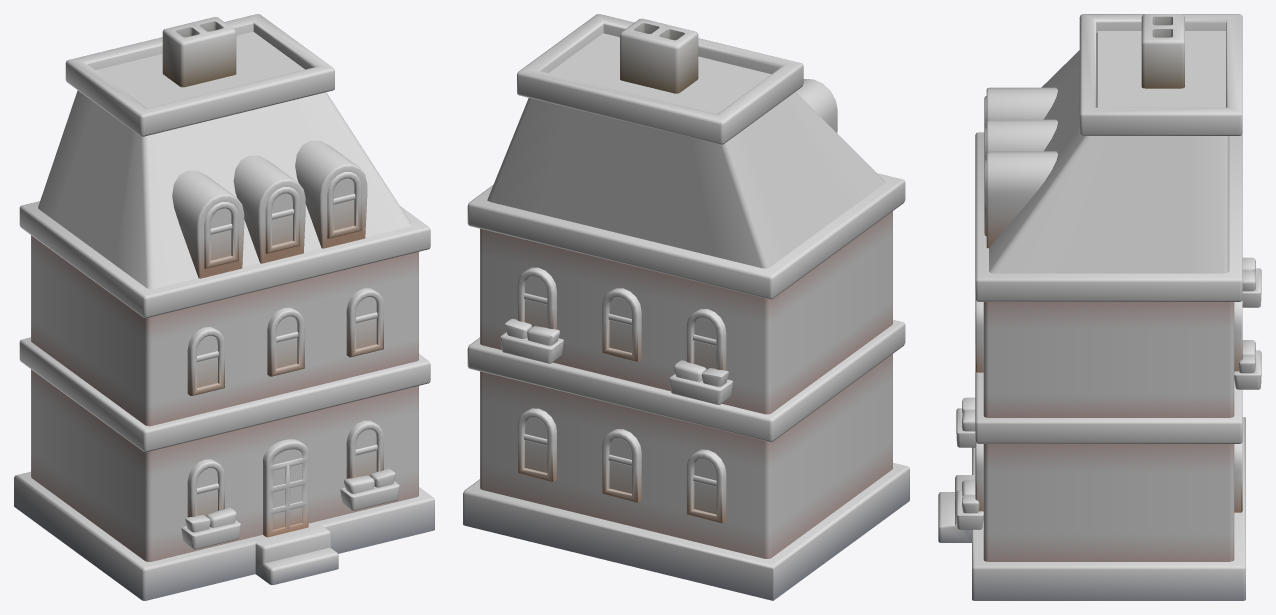
Rendered from NF_Bld_Apartment 03.fbx.
The picture shows the model from 3 angles, left to right: view 1: azimuth 30°, elevation 25°; view 2: azimuth 150°, elevation 25°; view 3: azimuth 270°, elevation 25°; orthographic projection. The views are drawn at different scales.
Parts seen in each view (by area): view 1: Apart_03; view 2: Apart_03; view 3: Apart_03.
Part boxes in pixels (x1,y1,x2,y2): Apart_03: (14,14,434,600); Apart_03: (463,14,909,600); Apart_03: (938,14,1261,600).
Size of the model in its own units: 8.56 by 13.16 by 7.73.
